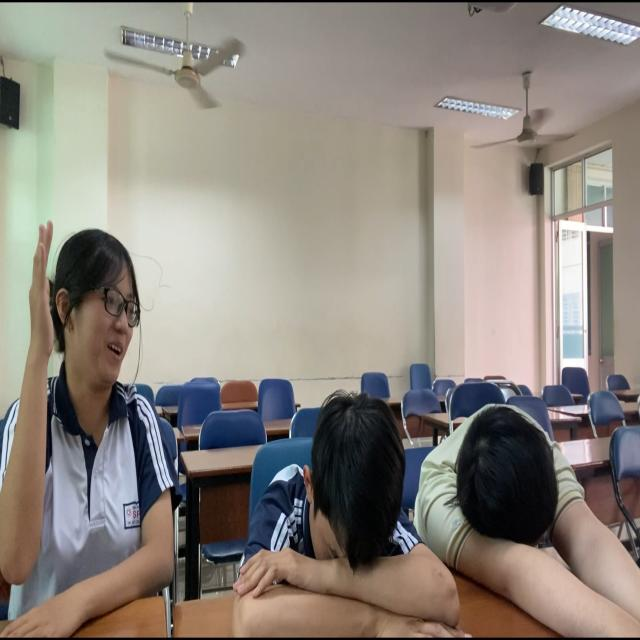raise_hand: (1, 207, 196, 640)
sleep: (233, 380, 451, 640), (424, 353, 638, 611)
